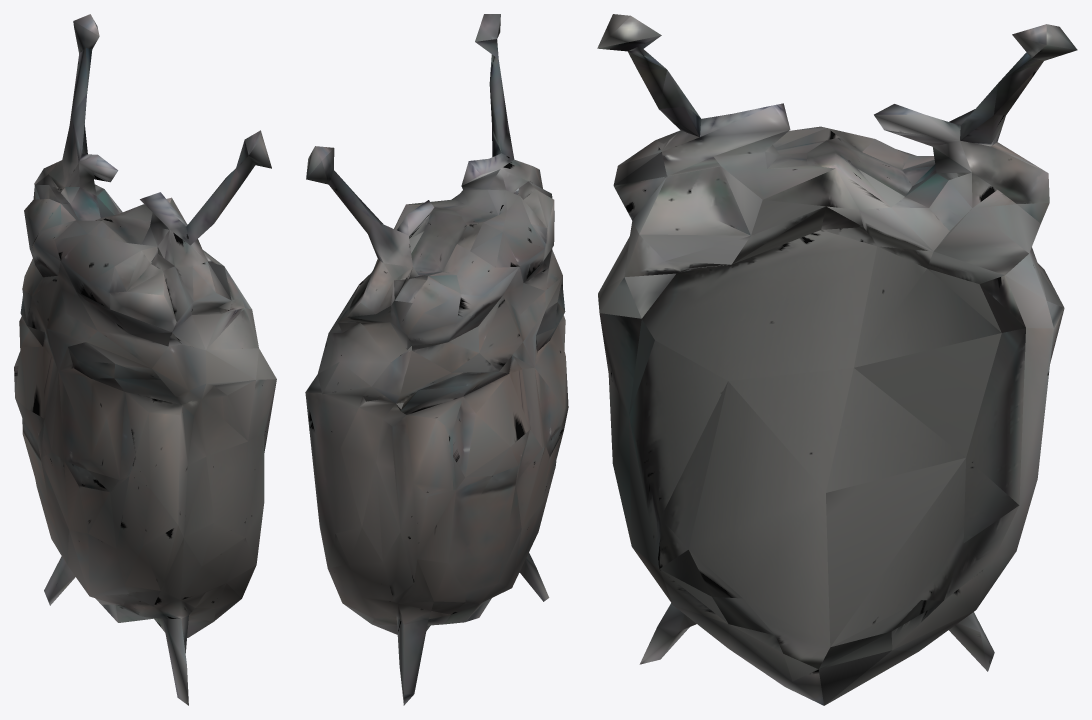
Rendered from shield.glb.
The picture shows the model from 3 angles, left to right: view 1: azimuth 30°, elevation 25°; view 2: azimuth 150°, elevation 25°; view 3: azimuth 270°, elevation 25°; orthographic projection. The views are drawn at different scales.
Visible parts, largest first — view 1: mesh (4); view 2: mesh (4); view 3: mesh (4).
Part boxes in pixels (<box>): mesh (4): <box>14,14,276,705</box>; mesh (4): <box>305,14,568,705</box>; mesh (4): <box>597,14,1077,705</box>.
Size of the model in its own units: 0.2578 by 0.9937 by 0.6222.
1 material, 1 textured.
